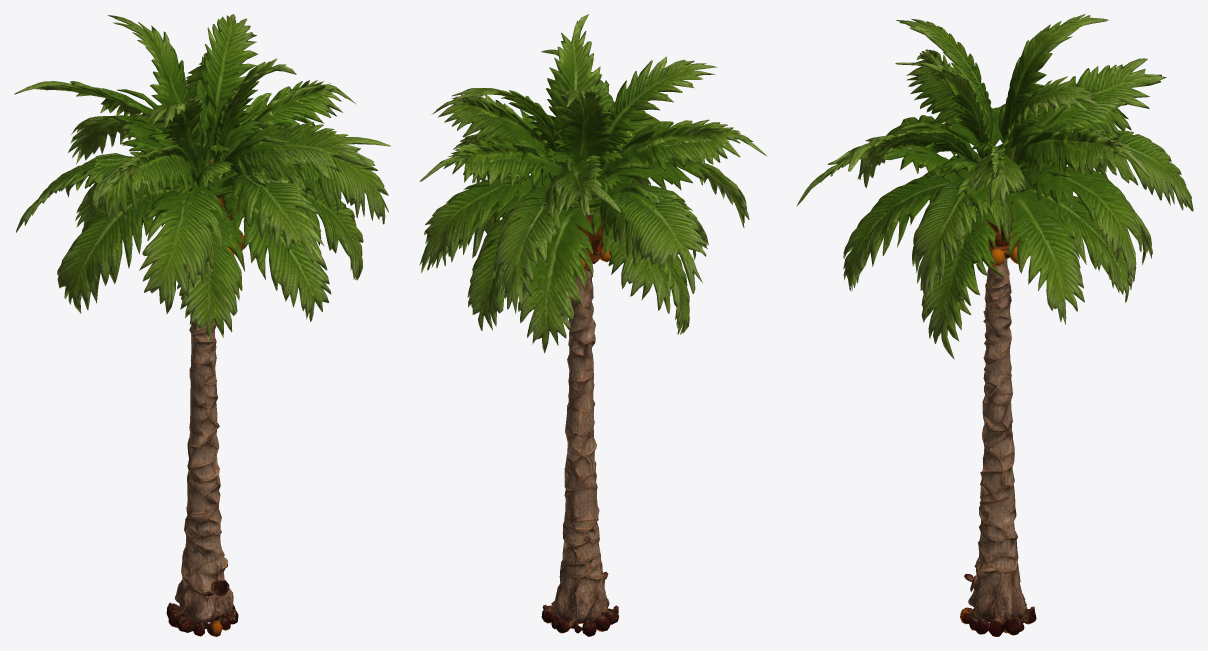
File: date_palm_tall_game.glb
3 views of the same model, side by side, from view 1: azimuth 30°, elevation 25°; view 2: azimuth 150°, elevation 25°; view 3: azimuth 270°, elevation 25° (orthographic). The views are drawn at different scales.
Parts seen in each view (by area): view 1: tripo_node_bef1c666-bd54-41bd-9154-79a87feed035; view 2: tripo_node_bef1c666-bd54-41bd-9154-79a87feed035; view 3: tripo_node_bef1c666-bd54-41bd-9154-79a87feed035.
Part boxes in pixels (box(x1,y1,x2,y2)): tripo_node_bef1c666-bd54-41bd-9154-79a87feed035: box(14, 14, 390, 636); tripo_node_bef1c666-bd54-41bd-9154-79a87feed035: box(419, 14, 767, 636); tripo_node_bef1c666-bd54-41bd-9154-79a87feed035: box(796, 14, 1193, 636).
Bounding box in the file's own units: 0.5496 × 0.9797 × 0.5984.
Materials: 1 (1 with a texture image).
